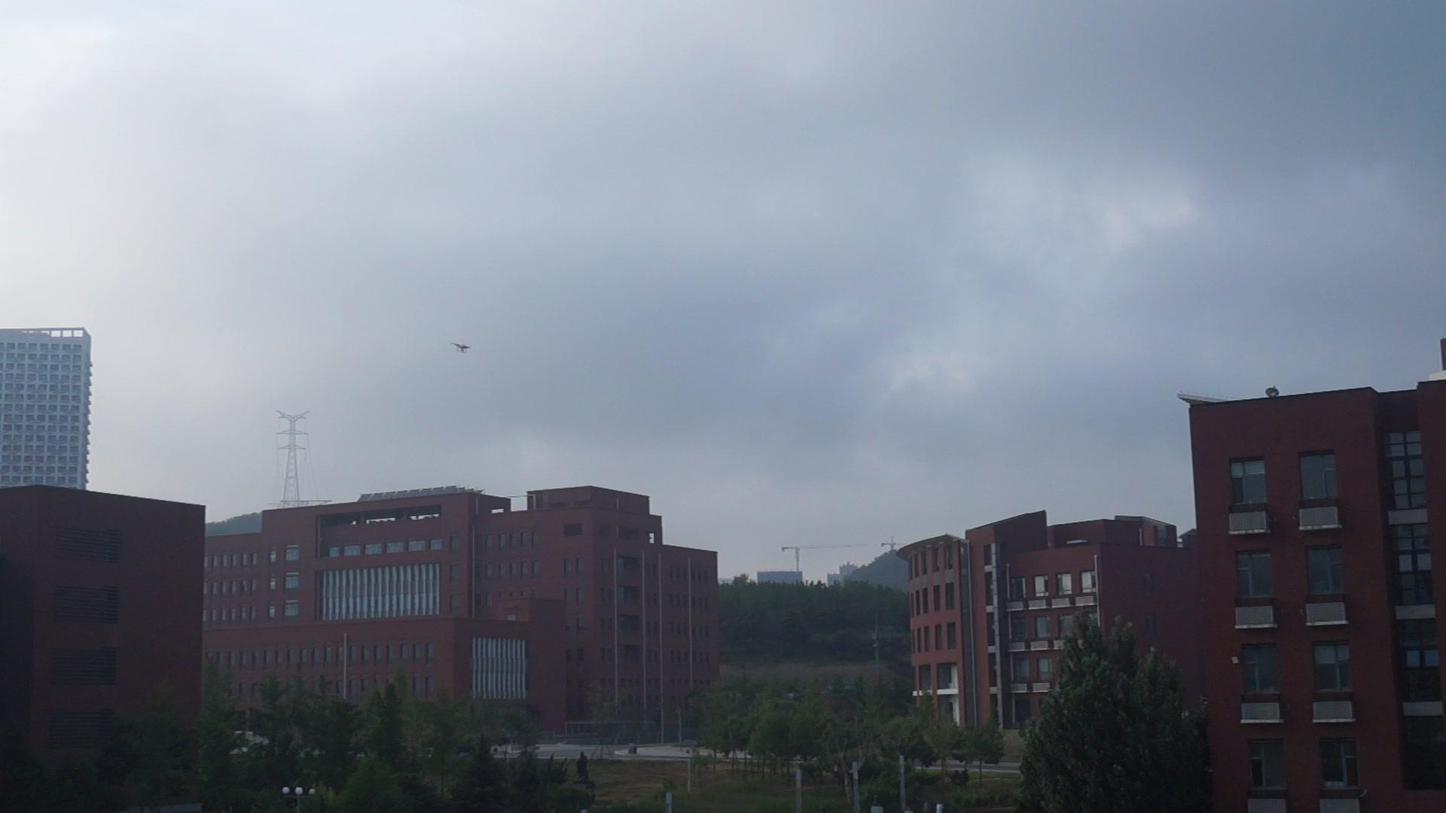UAV: (451, 343, 471, 354)
